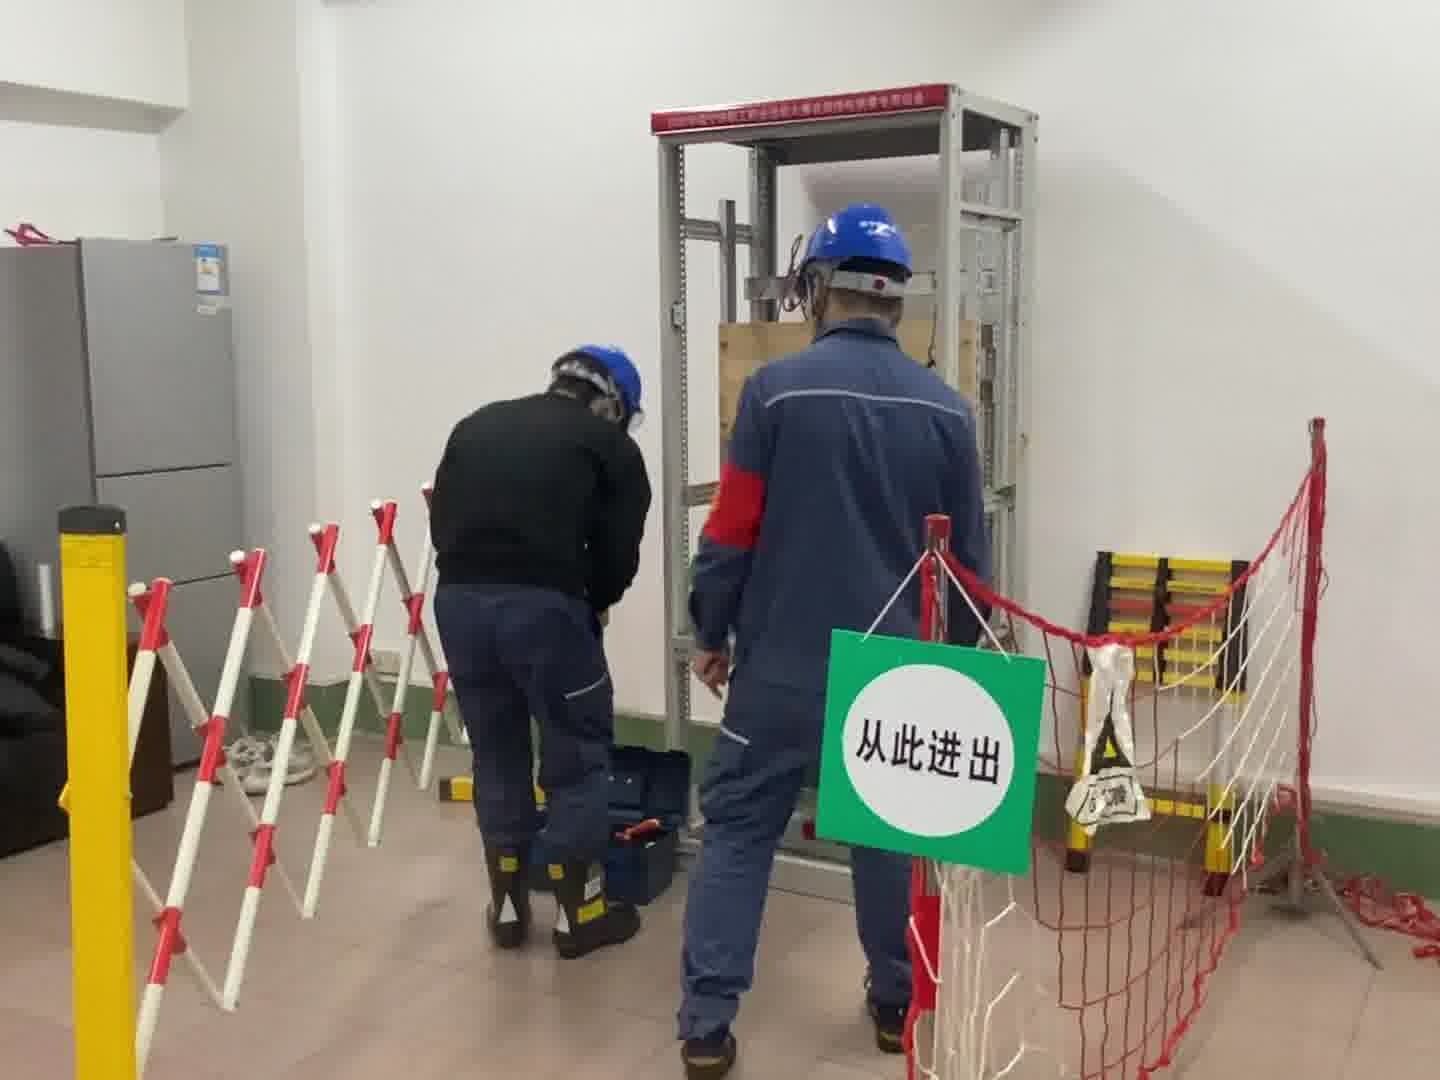badge: (701, 463, 769, 553)
downsuit: (437, 591, 622, 899), (681, 659, 826, 1042)
halt: (795, 202, 920, 326), (546, 342, 645, 425)
hand: (692, 647, 733, 701)
intosign: (807, 621, 1041, 884)
person: (660, 199, 998, 1077), (414, 338, 654, 955)
shoe: (538, 840, 647, 955), (471, 847, 538, 957)
upcloth: (423, 391, 645, 613)
upsuit: (687, 323, 987, 647)
